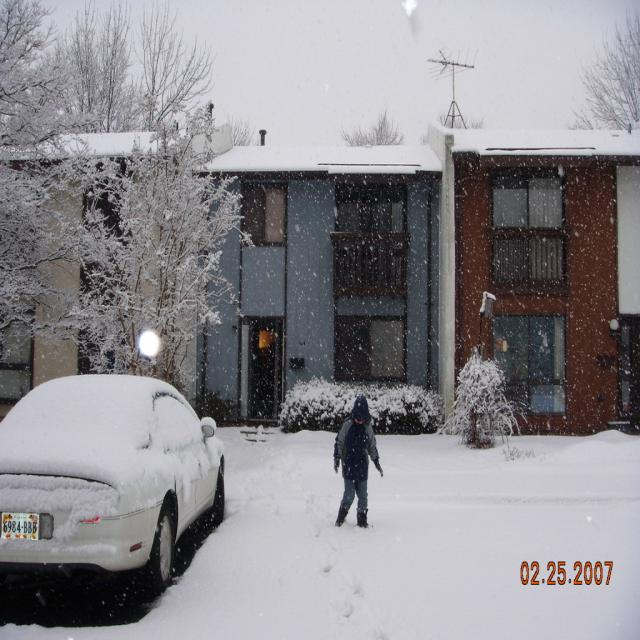car: (7, 367, 229, 606)
